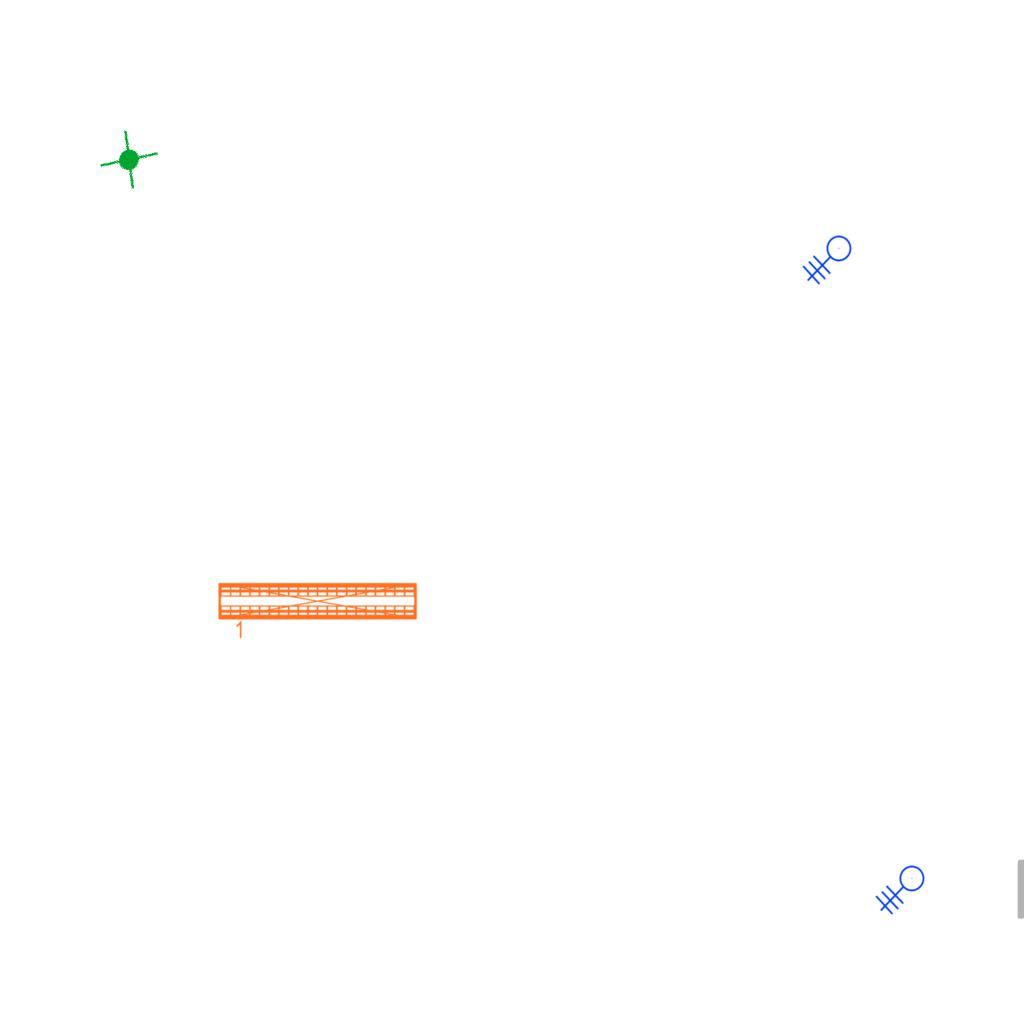Buero_Pendelleuchten_LED: (215, 578, 421, 643)
Elektroanschluss_allgemein_400V_Geraeteanschlussdose_400V: (875, 865, 933, 921), (802, 235, 860, 291)
Notlichtbaustein_in_Allgemeinbeleuchtug_engebaut_Einbau_(1UG_und_2UG_Aufbauvaria: (94, 124, 165, 196)
